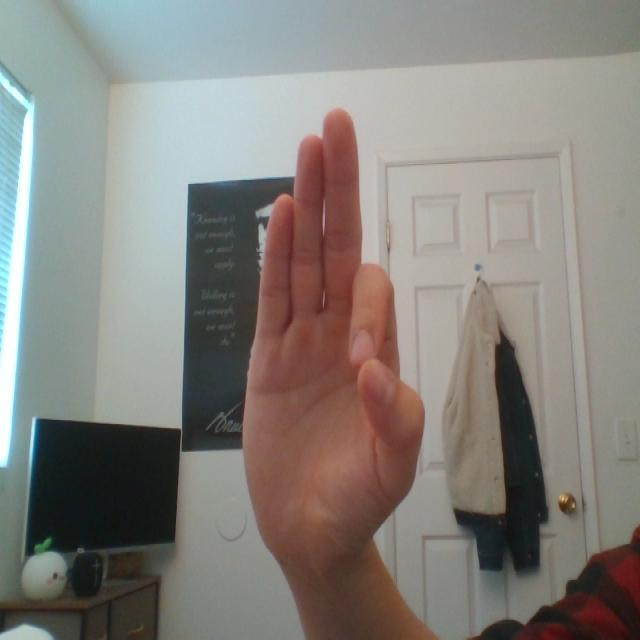F: (228, 71, 441, 595)
